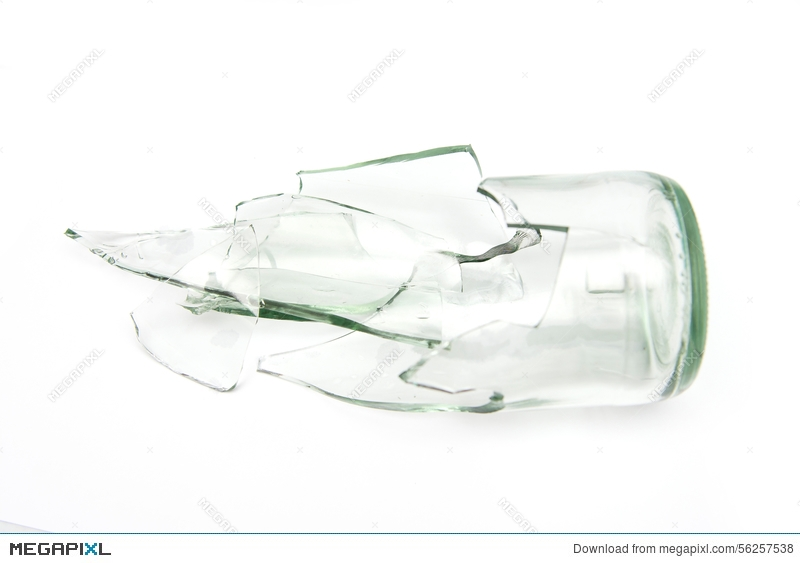glass: (398, 162, 709, 424), (246, 276, 510, 431), (52, 208, 262, 399), (284, 141, 546, 264)
